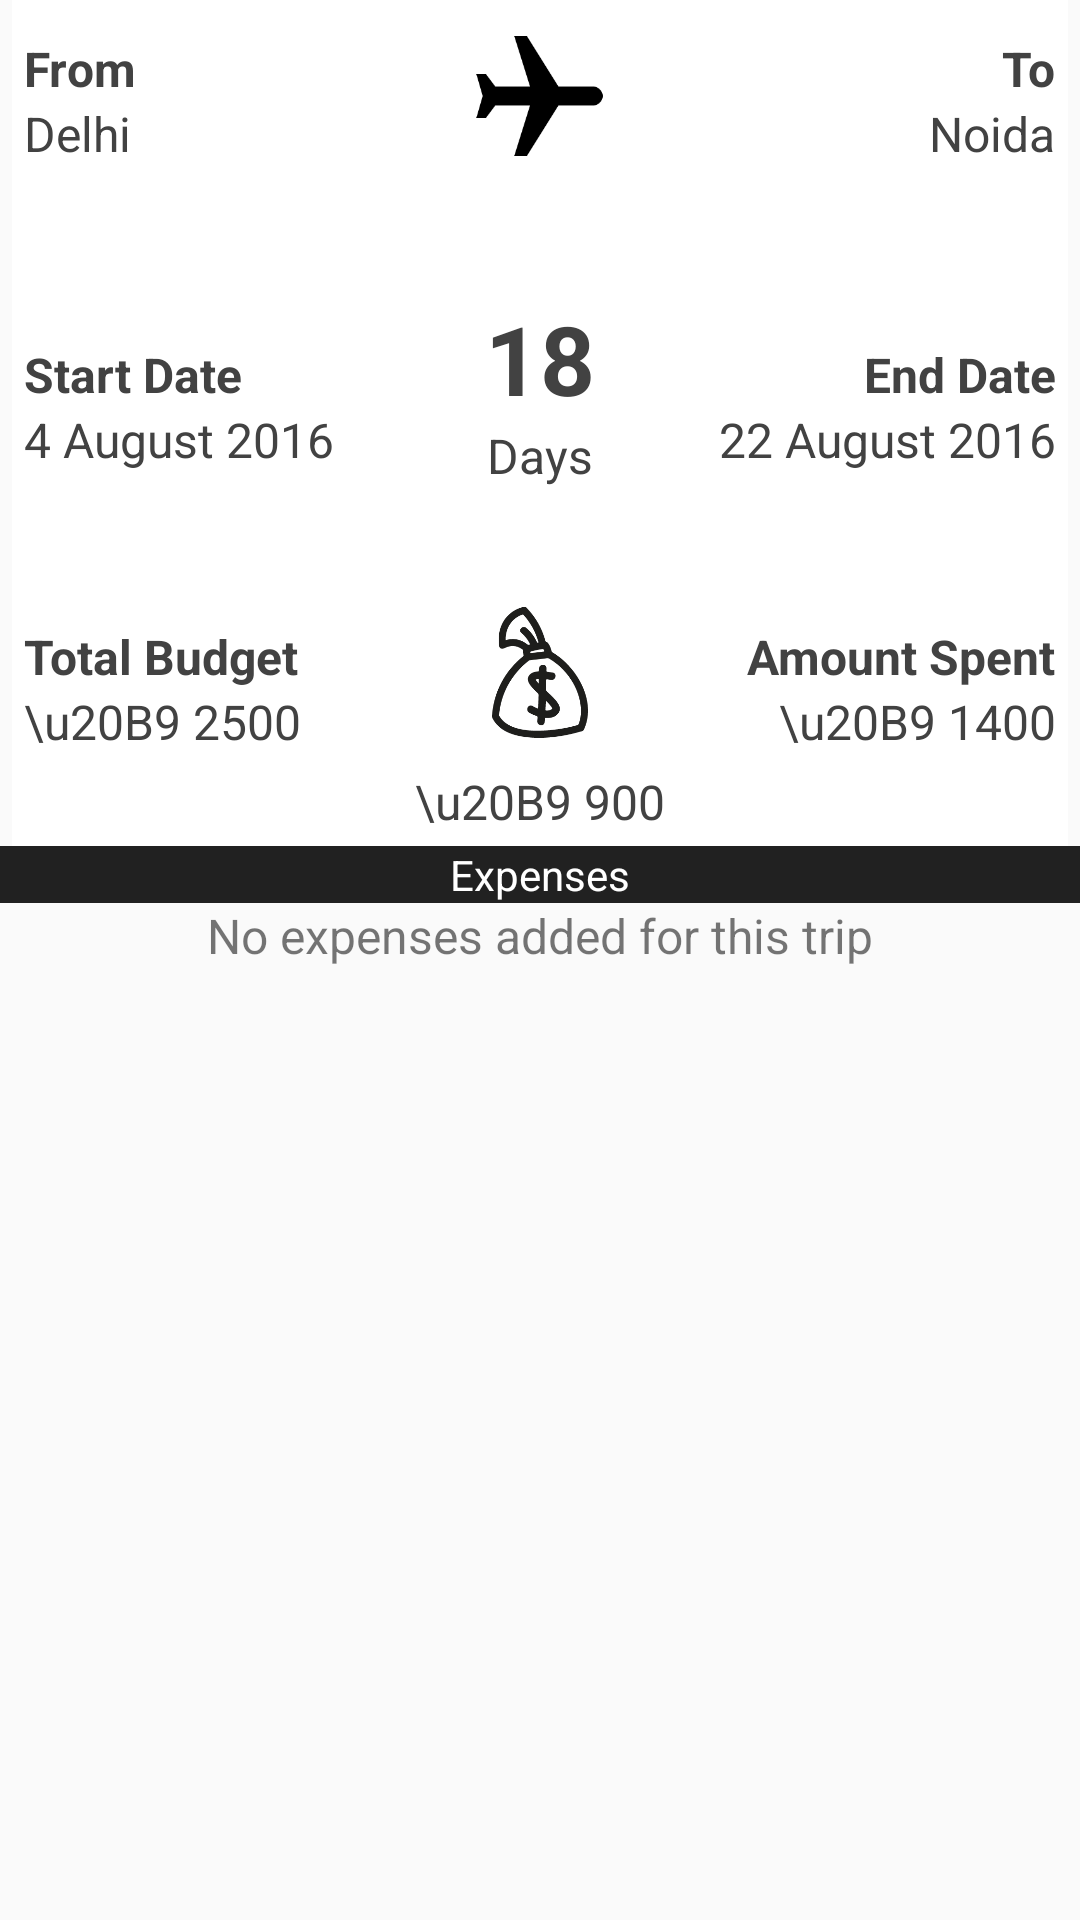

Locate icon controls on the screen. Image size 1080×1920, boxes as (x1, y1, x2, y2).
money: (492, 607, 588, 738)
